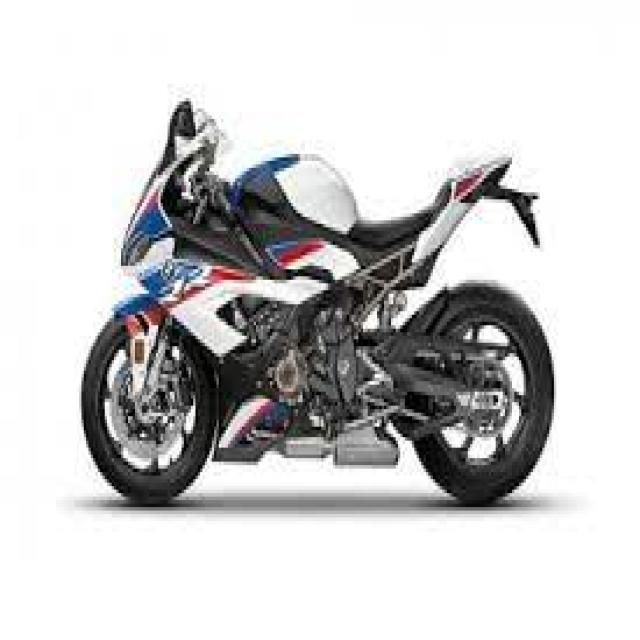MOTORCYCLE: (82, 116, 556, 504)
